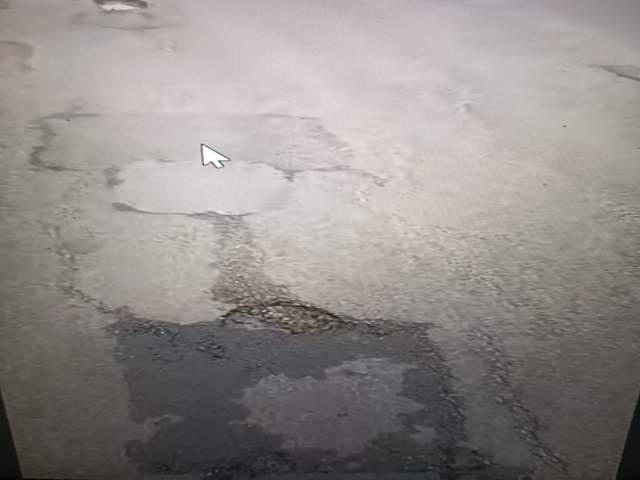pothole: (106, 403, 318, 480)
